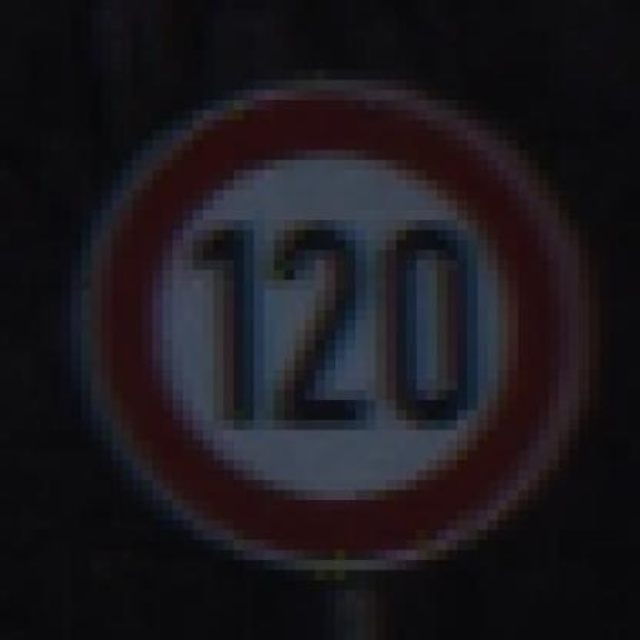Tốc độ tối đa cho phép 120km/h: (103, 96, 573, 561)
